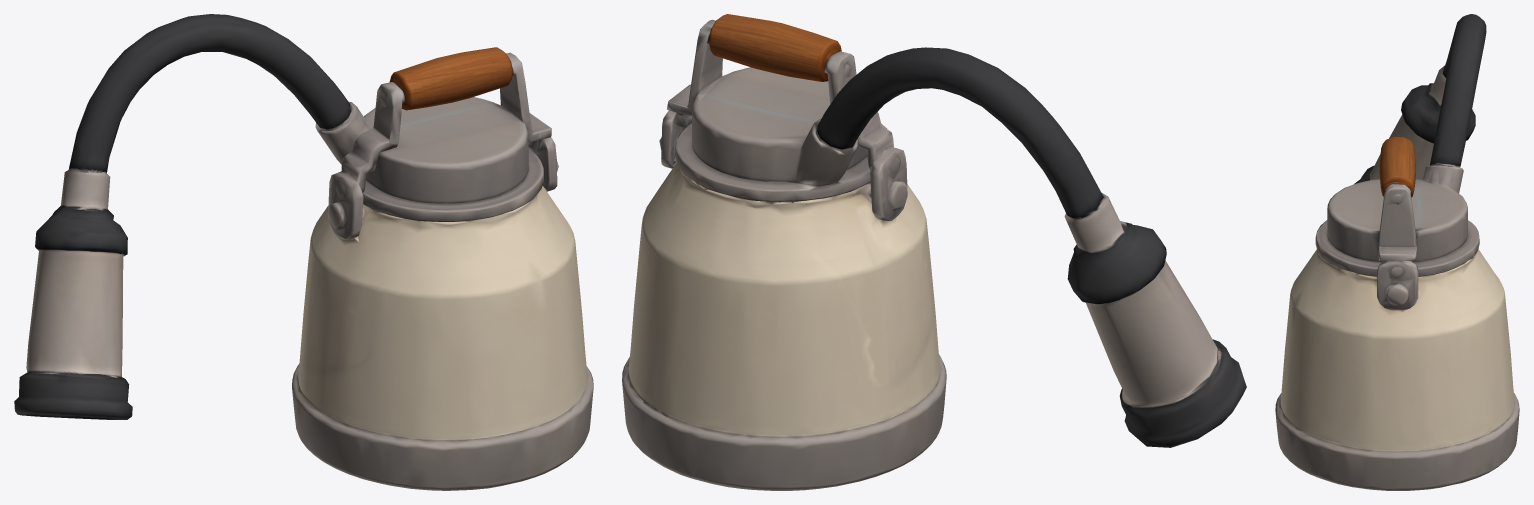
File: tripo_convert_a033f0a5-1955-42ff-9250-9e8a8b169e7a(Alat Perah sapi).fbx
3 views of the same model, side by side, from view 1: azimuth 30°, elevation 25°; view 2: azimuth 150°, elevation 25°; view 3: azimuth 270°, elevation 25° (orthographic). The views are drawn at different scales.
Visible parts, largest first — view 1: tripo_node_a033f0a5; view 2: tripo_node_a033f0a5; view 3: tripo_node_a033f0a5.
Boxes of the visible parts, x1,y1,x2,y2 form: tripo_node_a033f0a5: [14, 14, 593, 490]; tripo_node_a033f0a5: [622, 14, 1246, 490]; tripo_node_a033f0a5: [1275, 14, 1519, 490].
Bounding box in the file's own units: 0.9797 × 0.7282 × 0.4725.
